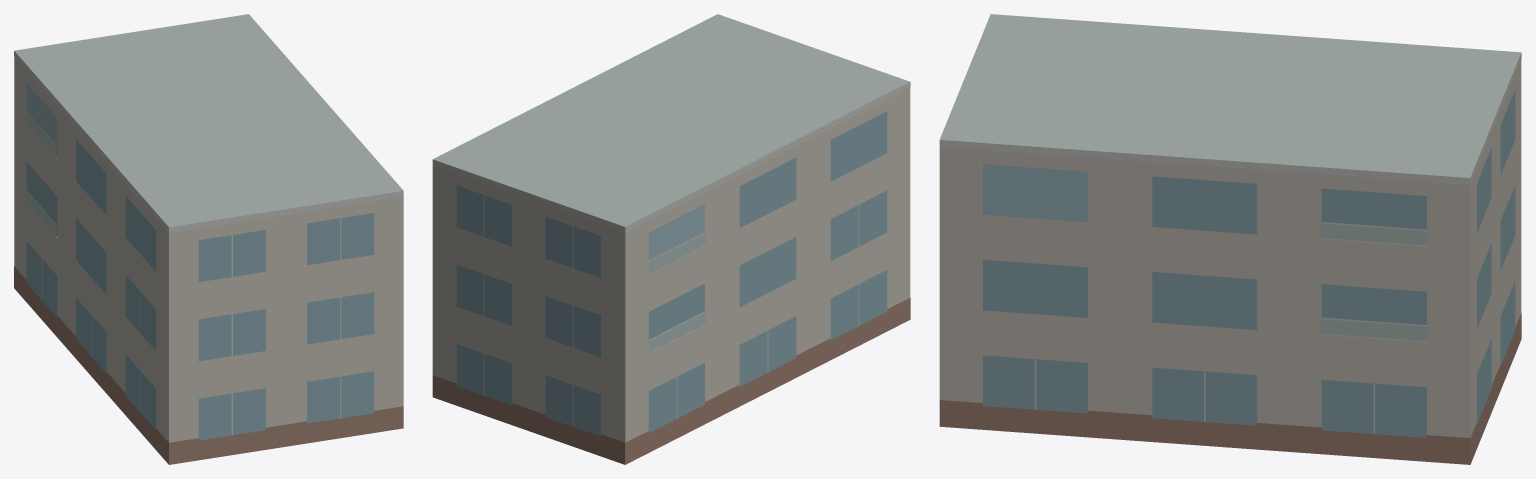
The model's file is survey-upis-32891692.glb.
3 views of the same model, side by side, from view 1: azimuth 30°, elevation 25°; view 2: azimuth 150°, elevation 25°; view 3: azimuth 270°, elevation 25° (orthographic). The views are drawn at different scales.
Visible parts, largest first — view 1: survey-upis-32891692.tmp; view 2: survey-upis-32891692.tmp; view 3: survey-upis-32891692.tmp.
Boxes of the visible parts, bbox=[...] form: survey-upis-32891692.tmp: bbox=[14, 14, 403, 464]; survey-upis-32891692.tmp: bbox=[432, 14, 910, 464]; survey-upis-32891692.tmp: bbox=[939, 14, 1521, 464].
Bounding box in the file's own units: 12.03 × 9.8 × 18.03.
